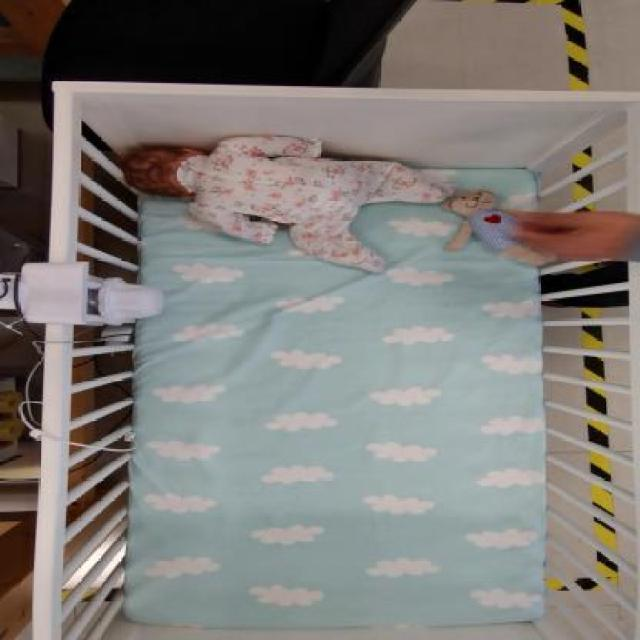baby: (120, 127, 454, 277)
